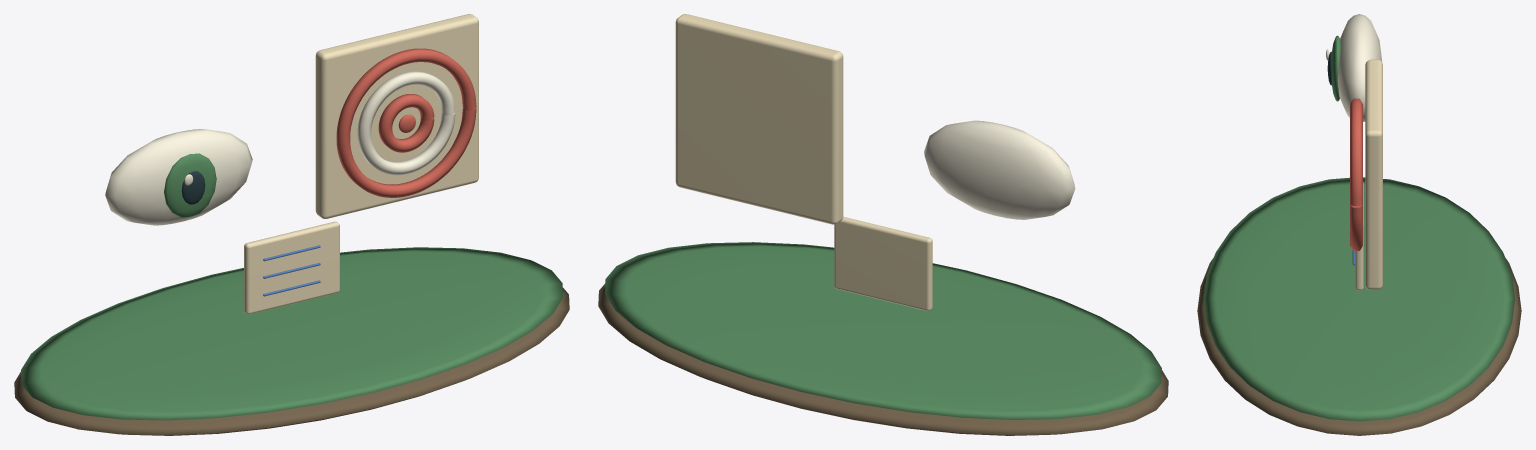
The model's file is complete-first-inspect-and-check.glb.
The picture shows the model from 3 angles, left to right: view 1: azimuth 30°, elevation 25°; view 2: azimuth 150°, elevation 25°; view 3: azimuth 270°, elevation 25°; orthographic projection. The views are drawn at different scales.
Parts seen in each view (by area): view 1: complete-first-inspect-and-check_surface_01, complete-first-inspect-and-check_surface_04, complete-first-inspect-and-check_surface_02, complete-first-inspect-and-check_surface_00, complete-first-inspect-and-check_surface_05, complete-first-inspect-and-check_surface_03, complete-first-inspect-and-check_surface_06; view 2: complete-first-inspect-and-check_surface_01, complete-first-inspect-and-check_surface_04, complete-first-inspect-and-check_surface_02, complete-first-inspect-and-check_surface_00; view 3: complete-first-inspect-and-check_surface_01, complete-first-inspect-and-check_surface_00, complete-first-inspect-and-check_surface_04, complete-first-inspect-and-check_surface_02, complete-first-inspect-and-check_surface_05.
Boxes of the visible parts, x1,y1,x2,y2 form: complete-first-inspect-and-check_surface_01: [21, 153, 562, 420]; complete-first-inspect-and-check_surface_04: [244, 14, 478, 314]; complete-first-inspect-and-check_surface_02: [105, 71, 455, 225]; complete-first-inspect-and-check_surface_00: [14, 287, 569, 435]; complete-first-inspect-and-check_surface_05: [336, 48, 476, 197]; complete-first-inspect-and-check_surface_03: [181, 171, 205, 204]; complete-first-inspect-and-check_surface_06: [263, 245, 320, 296]; complete-first-inspect-and-check_surface_01: [605, 242, 1161, 419]; complete-first-inspect-and-check_surface_04: [675, 14, 932, 310]; complete-first-inspect-and-check_surface_02: [924, 120, 1075, 219]; complete-first-inspect-and-check_surface_00: [598, 283, 1168, 435]; complete-first-inspect-and-check_surface_01: [1204, 35, 1514, 421]; complete-first-inspect-and-check_surface_00: [1197, 258, 1521, 435]; complete-first-inspect-and-check_surface_04: [1355, 59, 1382, 290]; complete-first-inspect-and-check_surface_02: [1326, 14, 1382, 121]; complete-first-inspect-and-check_surface_05: [1350, 98, 1362, 250].
Size of the model in its own units: 4.56 by 2.42 by 2.5.
